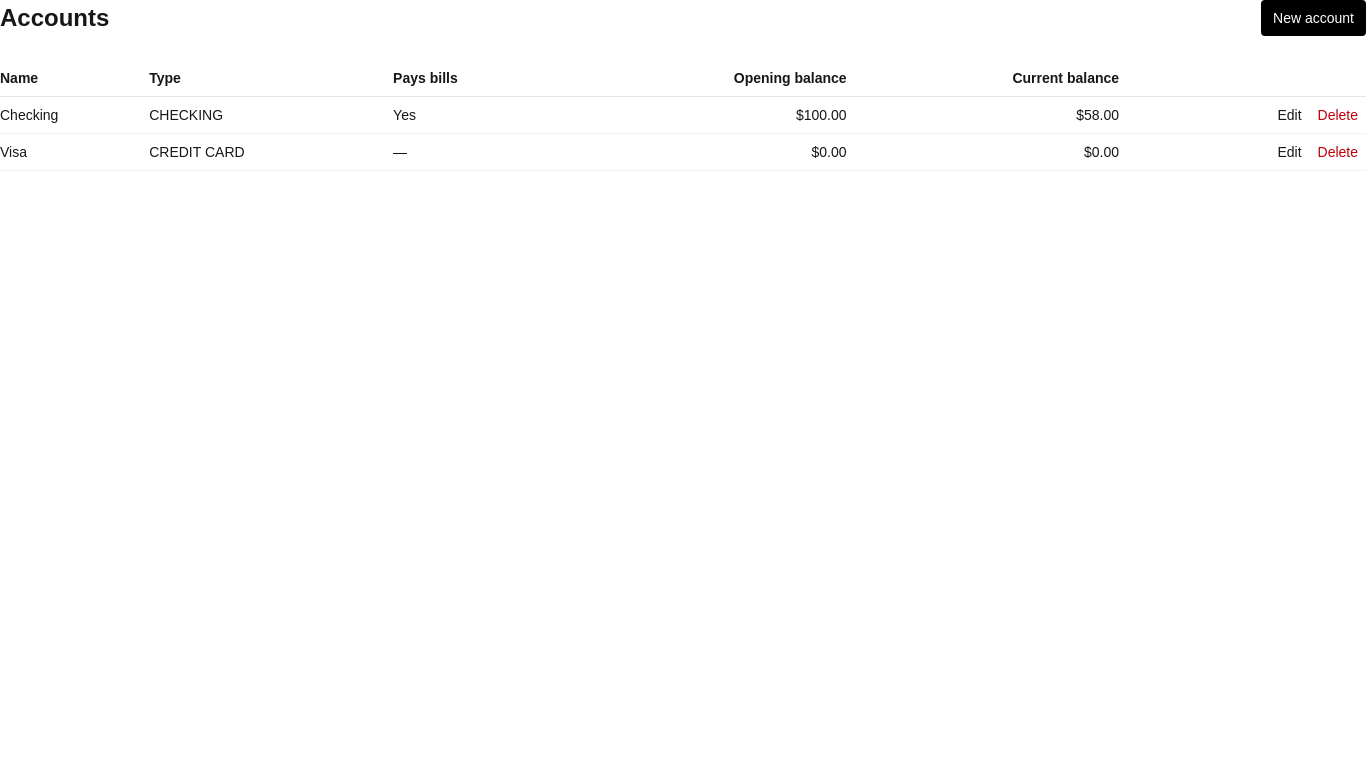
Test: AccountsPage › renders a 400 field error under the name input
Expected: the row "Checking CHECKING Yes $100.00 $58.00 Edit Delete" is shown, [0, 96, 1365, 134]
Step 1. Click the button "New account" → point(1314, 18), box [1261, 0, 1365, 36]
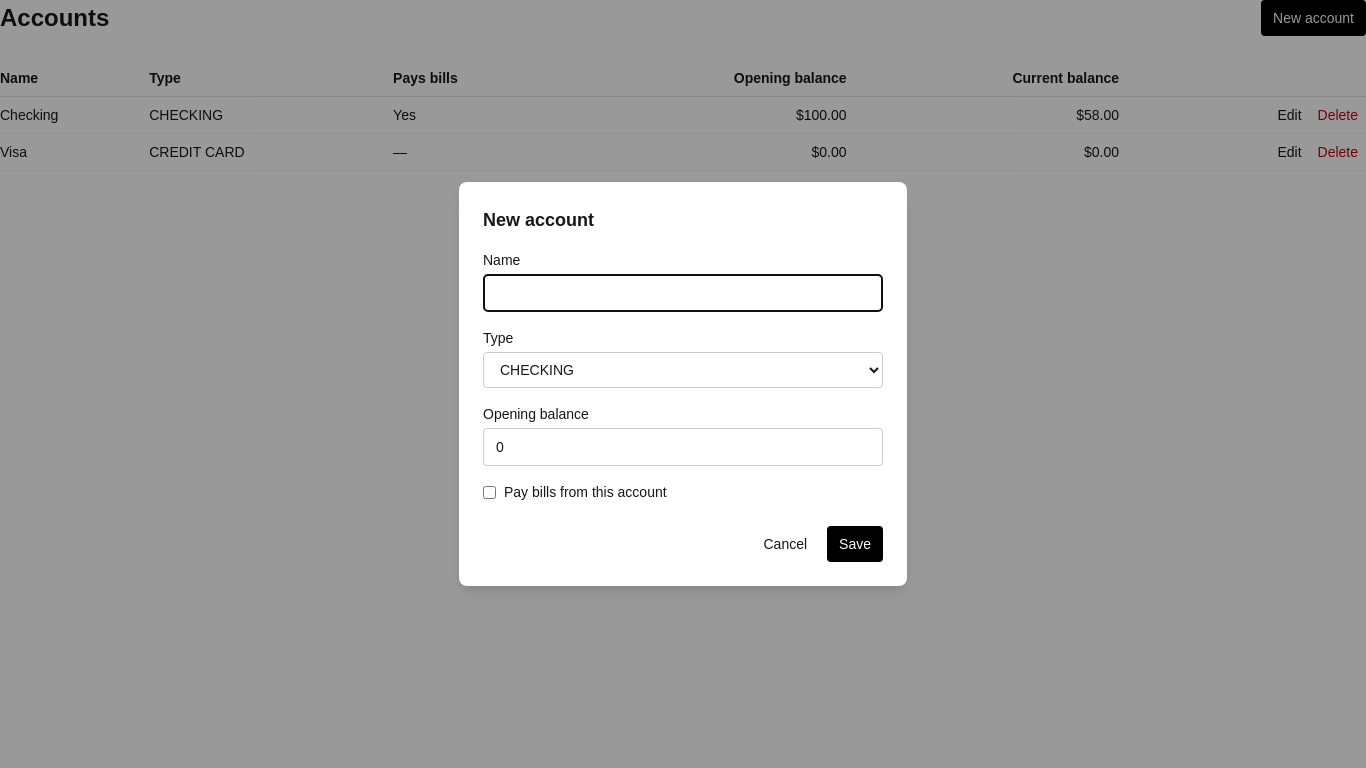
Step 2. Click the button "Save" → point(855, 544), box [827, 526, 883, 562]
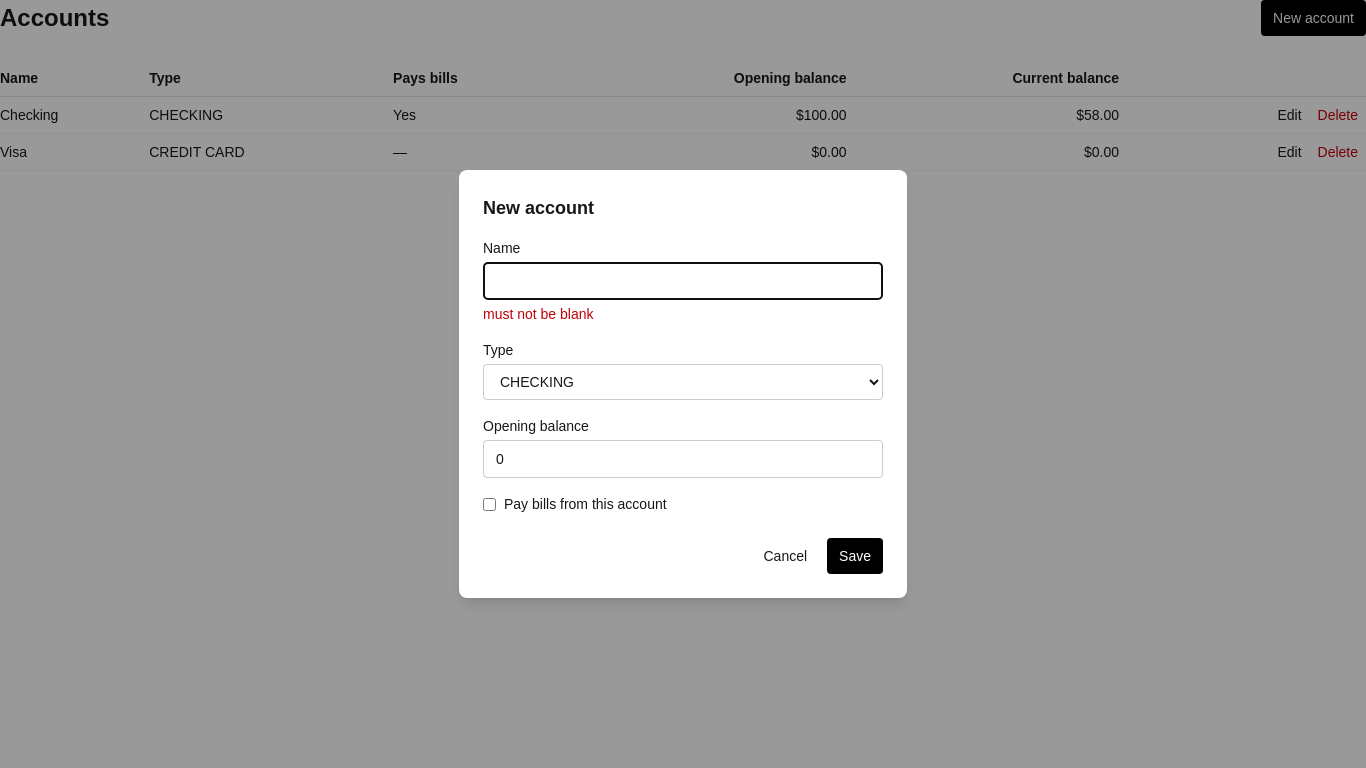
Expected: the text "must not be blank" is shown, [483, 306, 594, 322]
